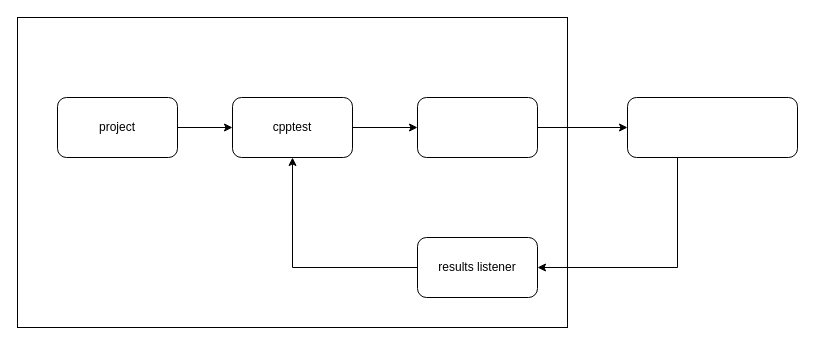
Image size: 815x345. Some labels were removed from this diagram. Here are the shapes that lost their labels. From the top down, the centre of each, then its label:
At [477,127]: "Parasoft test image".
At [712,127]: "target board/ simulator".
